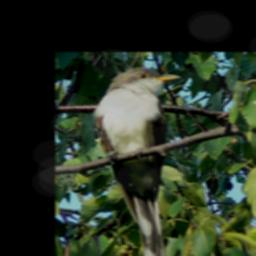Cuckoo: (95, 65, 181, 256)
